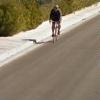Bicycle: (46, 1, 72, 53)
